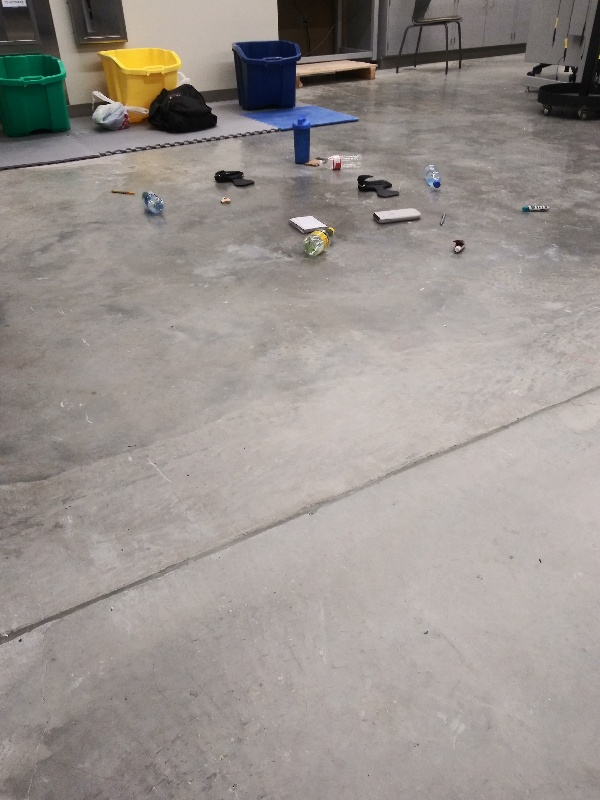bottle: (300, 224, 339, 259), (314, 152, 365, 171), (140, 188, 167, 215), (423, 164, 442, 190)
